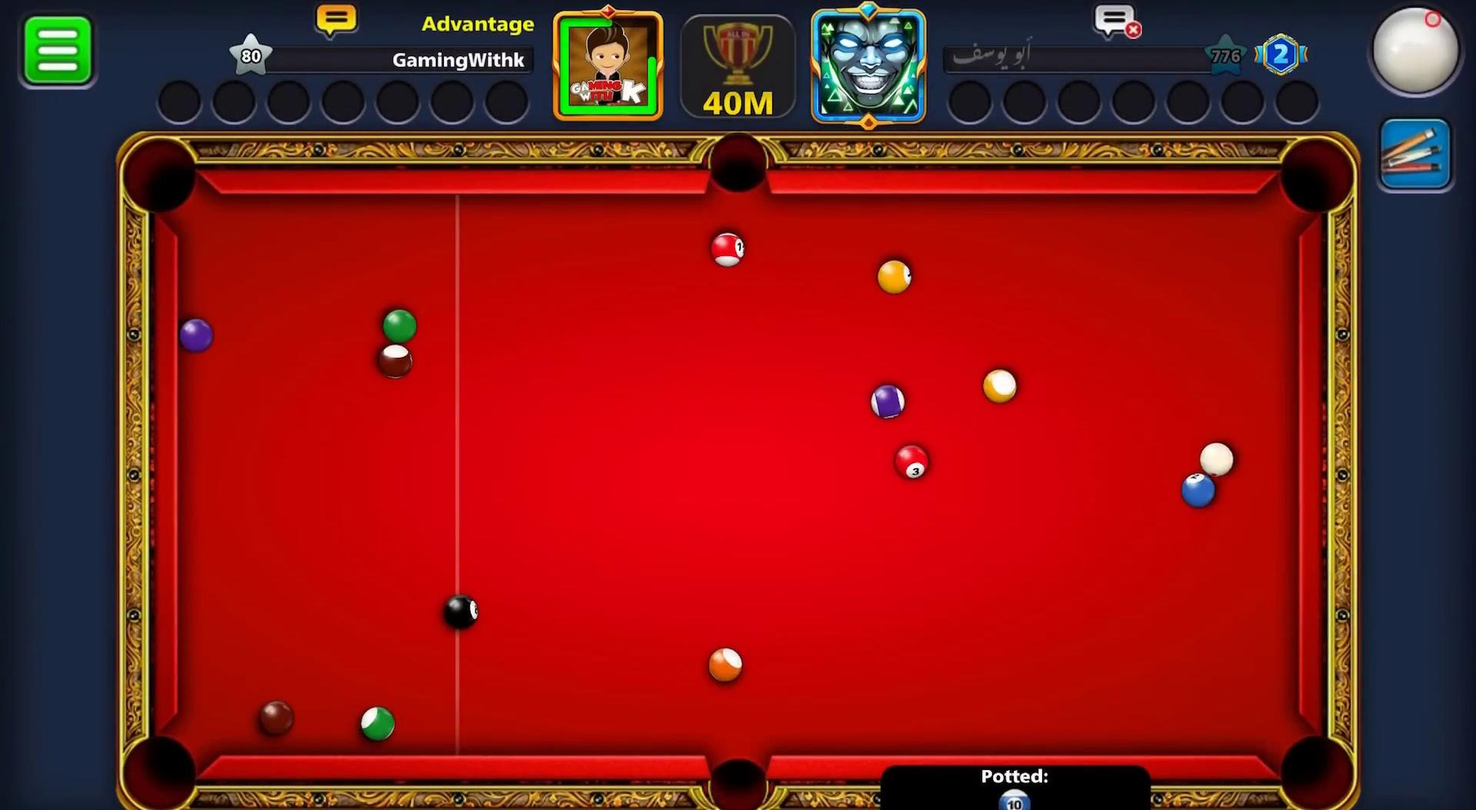Ball: (699, 215, 757, 277), (361, 337, 428, 389), (166, 305, 226, 360), (434, 583, 489, 637), (867, 244, 920, 300), (351, 695, 404, 749), (252, 690, 302, 743), (865, 376, 912, 430), (887, 437, 937, 487), (1178, 465, 1218, 514), (981, 358, 1021, 407), (705, 646, 745, 688), (998, 788, 1031, 809)
Hole: (102, 124, 218, 238), (103, 718, 217, 809), (687, 125, 794, 209), (1274, 732, 1358, 809), (690, 739, 782, 809), (1278, 137, 1355, 217)
Play_Area: (179, 193, 1295, 758)
Spin: (1361, 2, 1474, 108)
White: (1197, 434, 1239, 478)
